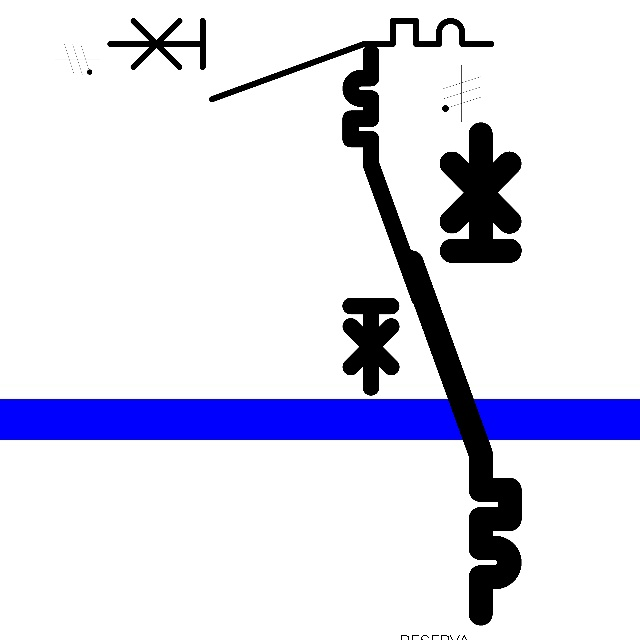interruptor_termomagnetico: (399, 122, 522, 626), (100, 11, 501, 109), (342, 44, 428, 396)
